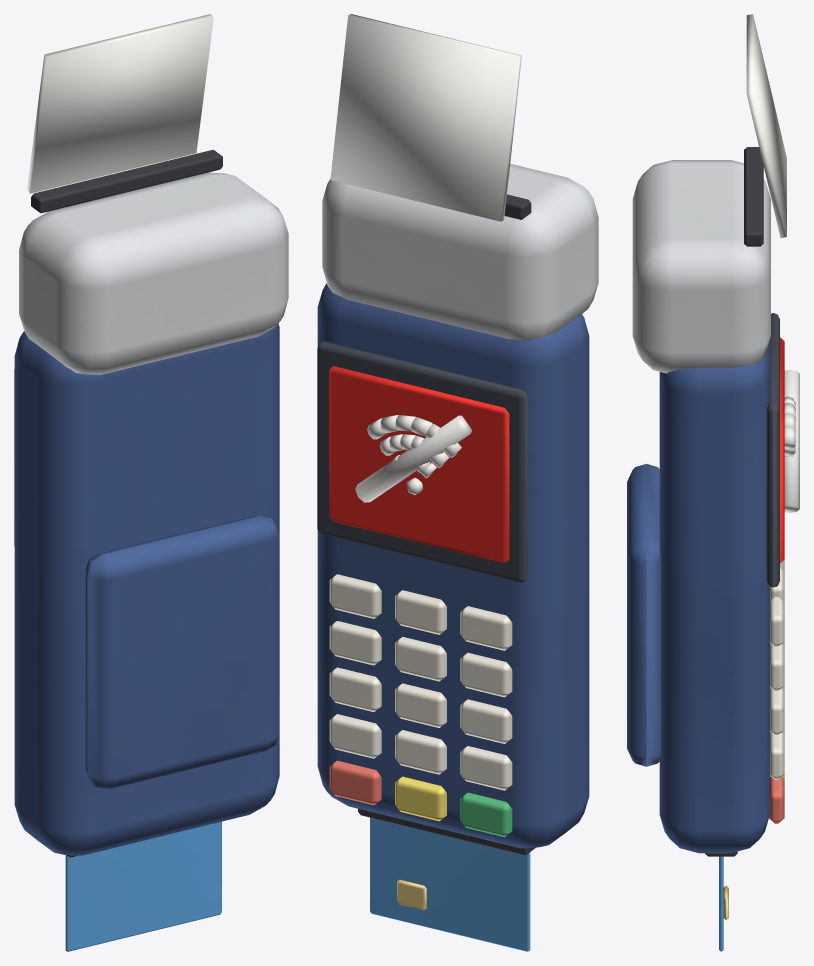
Rendered from Maquininha_Handheld.fbx.
The picture shows the model from 3 angles, left to right: view 1: azimuth 30°, elevation 25°; view 2: azimuth 150°, elevation 25°; view 3: azimuth 270°, elevation 25°; orthographic projection. The views are drawn at different scales.
Visible parts, largest first — view 1: Maquininha_Handheld; view 2: Maquininha_Handheld; view 3: Maquininha_Handheld.
Boxes of the visible parts, x1,y1,x2,y2 form: Maquininha_Handheld: (14, 14, 288, 951); Maquininha_Handheld: (317, 14, 598, 951); Maquininha_Handheld: (627, 14, 799, 951).
Size of the model in its own units: 0.082 by 0.2927 by 0.0532.
Materials: 1 (1 with a texture image).
